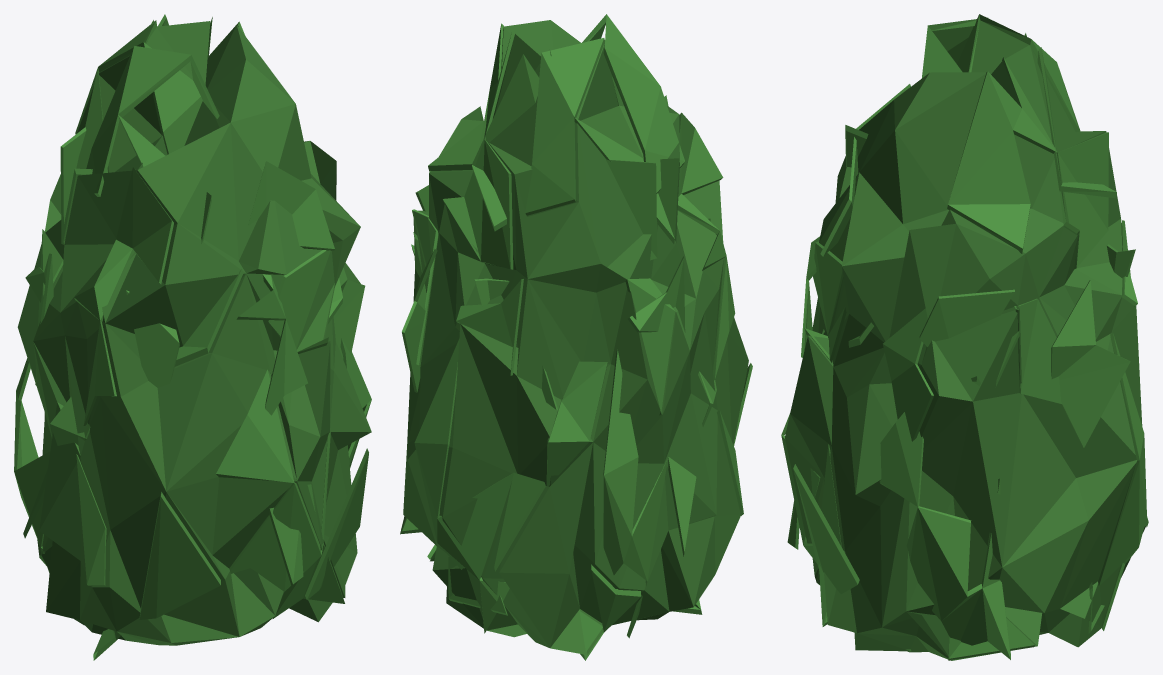
File: Bush 2.fbx
The picture shows the model from 3 angles, left to right: view 1: azimuth 30°, elevation 25°; view 2: azimuth 150°, elevation 25°; view 3: azimuth 270°, elevation 25°; orthographic projection. The views are drawn at different scales.
Parts seen in each view (by area): view 1: Bush 2; view 2: Bush 2; view 3: Bush 2.
Boxes of the visible parts, x1,y1,x2,y2 form: Bush 2: (14,14,371,660); Bush 2: (400,14,752,660); Bush 2: (781,14,1148,660).
Bounding box in the file's own units: 4.01 × 7.27 × 4.05.
